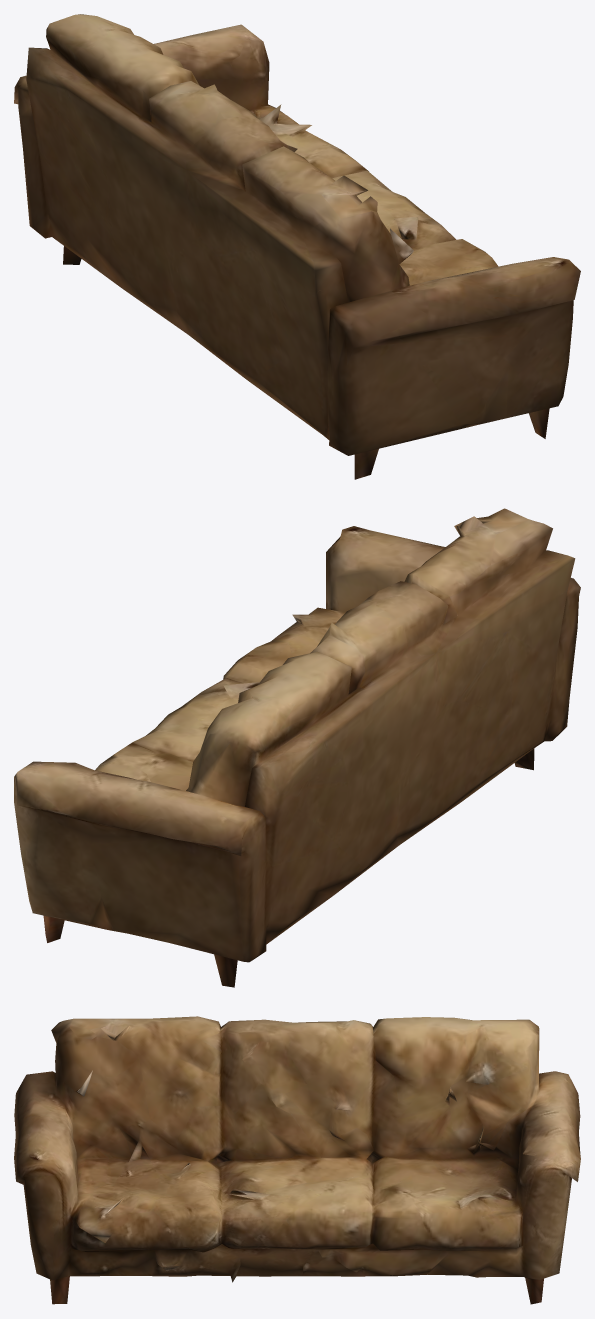
Rendered from e_sofa.glb.
3 renders of one model, top to bottom at view 1: azimuth 30°, elevation 25°; view 2: azimuth 150°, elevation 25°; view 3: azimuth 270°, elevation 25°, orthographic. The views are drawn at different scales.
Visible parts, largest first — view 1: tripo_node_dcb8abde-8693-416b-9d65-40b495493d86; view 2: tripo_node_dcb8abde-8693-416b-9d65-40b495493d86; view 3: tripo_node_dcb8abde-8693-416b-9d65-40b495493d86.
Boxes of the visible parts, x1,y1,x2,y2 form: tripo_node_dcb8abde-8693-416b-9d65-40b495493d86: [14, 14, 580, 479]; tripo_node_dcb8abde-8693-416b-9d65-40b495493d86: [14, 508, 580, 987]; tripo_node_dcb8abde-8693-416b-9d65-40b495493d86: [14, 1016, 580, 1304].
Bounding box in the file's own units: 0.4354 × 0.4232 × 1.
1 material, 1 textured.
